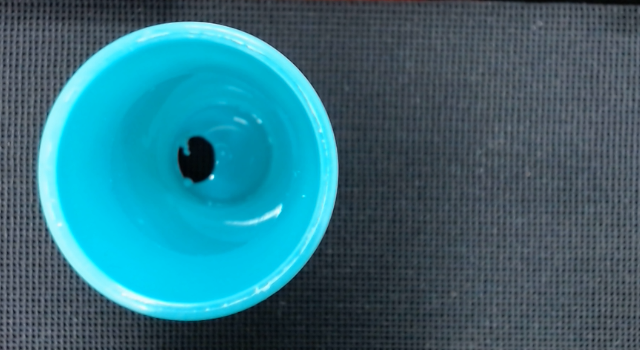hole: (177, 134, 215, 183)
